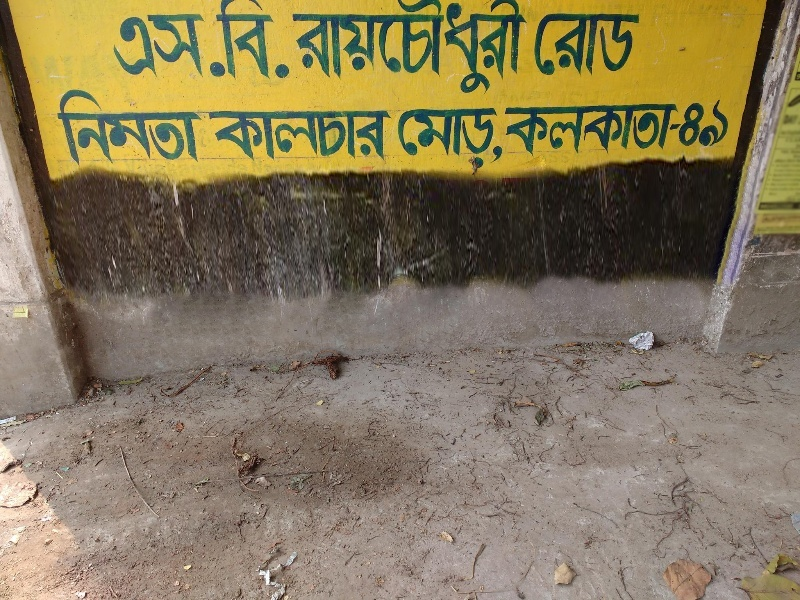text: (513, 1, 529, 94), (209, 76, 225, 167), (305, 1, 320, 94), (321, 1, 336, 94), (337, 1, 352, 94), (353, 1, 368, 94), (369, 1, 384, 94), (385, 1, 400, 94), (401, 1, 416, 94), (417, 1, 432, 94), (433, 1, 448, 94), (449, 1, 464, 94), (465, 1, 480, 94), (481, 1, 496, 94), (497, 1, 512, 94), (65, 76, 80, 167), (81, 76, 96, 167), (97, 76, 112, 167), (113, 76, 128, 167), (129, 76, 144, 167), (145, 76, 160, 167), (161, 76, 176, 167), (177, 76, 192, 167), (193, 76, 208, 167), (290, 1, 304, 94), (209, 1, 224, 83), (225, 1, 240, 83), (241, 1, 256, 83), (257, 1, 272, 83), (273, 1, 288, 83), (51, 76, 64, 167), (113, 14, 128, 80), (129, 14, 144, 80), (145, 14, 160, 80), (161, 14, 176, 80), (177, 14, 192, 80), (193, 14, 208, 80), (209, 14, 224, 80), (545, 12, 560, 77), (561, 12, 576, 77), (577, 12, 592, 77), (593, 12, 608, 77), (609, 12, 624, 77), (625, 12, 640, 77), (401, 108, 416, 170), (417, 108, 432, 170), (433, 108, 448, 170), (449, 108, 464, 170), (465, 108, 480, 170), (481, 108, 496, 170), (513, 104, 528, 159), (529, 104, 544, 159), (545, 104, 560, 159), (561, 104, 576, 159), (577, 104, 592, 159), (593, 104, 608, 159), (609, 104, 624, 159), (625, 104, 640, 159), (641, 104, 656, 159), (657, 104, 672, 159), (673, 104, 688, 159), (209, 111, 224, 163), (225, 111, 240, 163), (241, 111, 256, 163), (257, 111, 272, 163), (273, 111, 288, 163), (289, 111, 304, 163), (305, 111, 320, 163), (321, 111, 336, 163), (337, 111, 352, 163), (353, 111, 368, 163), (369, 111, 384, 163), (385, 111, 400, 163), (689, 99, 704, 149), (705, 99, 720, 149), (497, 108, 508, 170), (289, 1, 296, 83), (502, 104, 512, 159), (104, 14, 112, 80), (721, 99, 731, 149), (225, 14, 231, 80), (538, 12, 544, 77), (394, 108, 400, 170), (204, 1, 208, 83), (641, 12, 643, 77), (206, 111, 208, 163), (686, 99, 688, 149)
